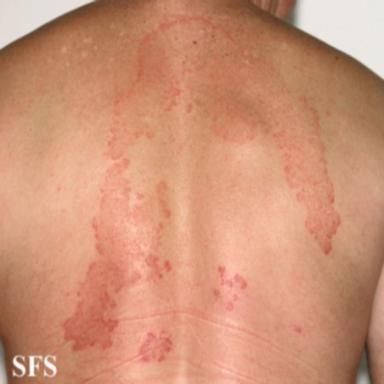Tinea-Corporis: (63, 16, 339, 351), (213, 265, 247, 311), (140, 330, 173, 362)
